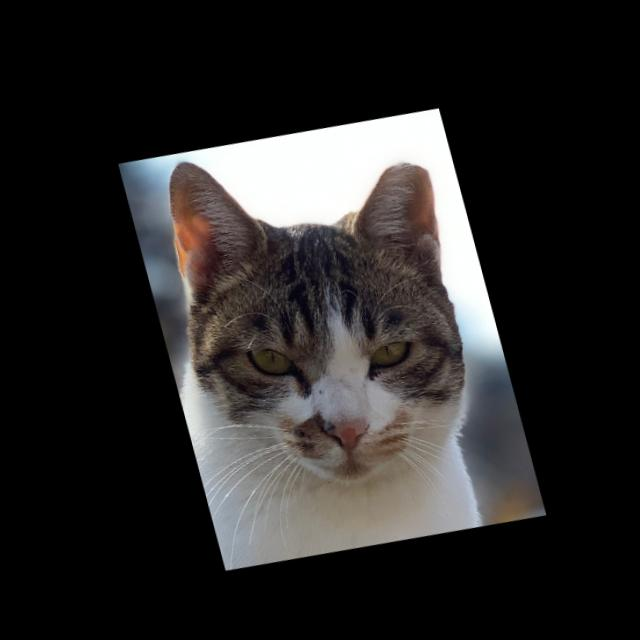animals: (122, 96, 511, 528)
